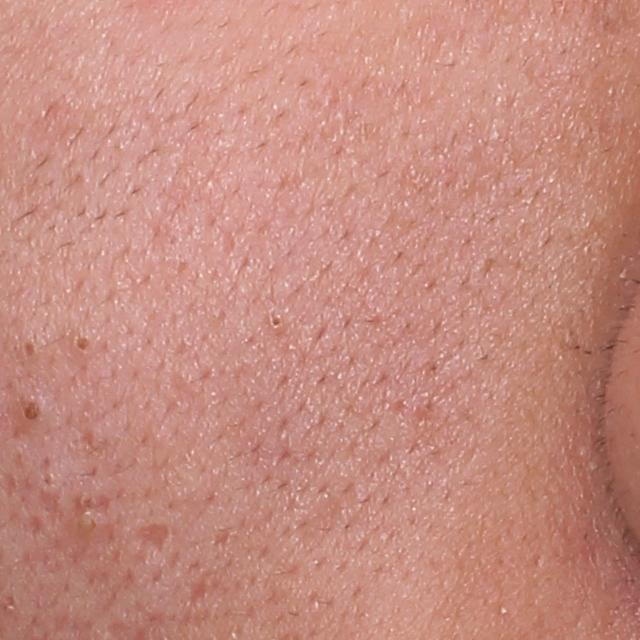atrophic_scar: (128, 518, 177, 554), (36, 485, 67, 527)
comedo: (20, 398, 45, 427), (17, 338, 40, 361), (68, 337, 93, 357), (265, 308, 284, 330)
